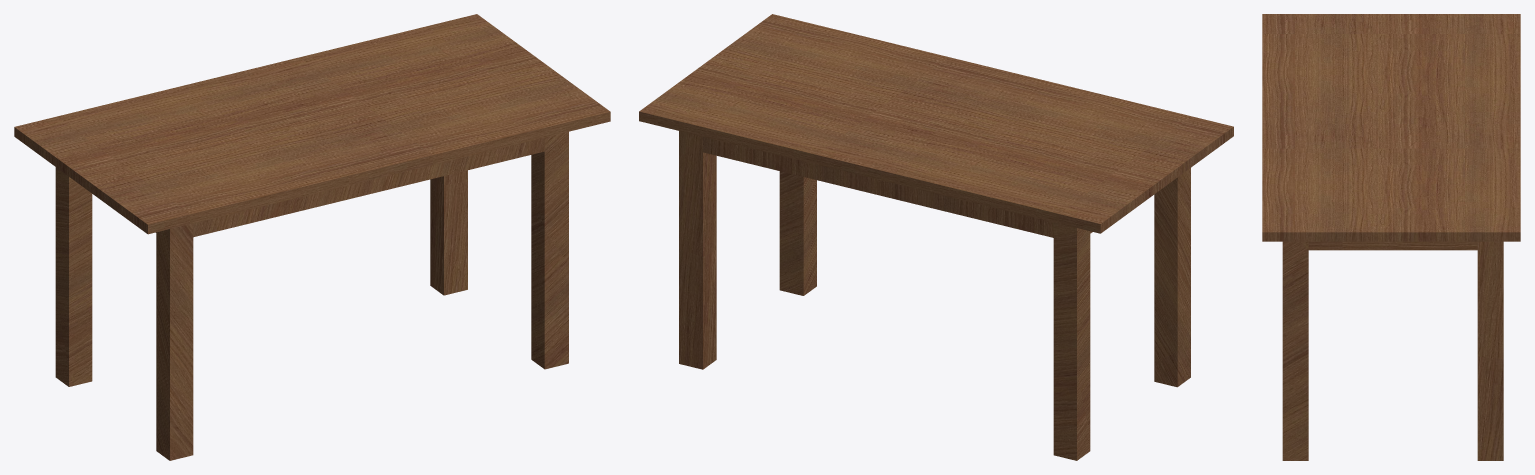
File: mesa_comum.FBX
The picture shows the model from 3 angles, left to right: view 1: azimuth 30°, elevation 25°; view 2: azimuth 150°, elevation 25°; view 3: azimuth 270°, elevation 25°; orthographic projection. The views are drawn at different scales.
Visible parts, largest first — view 1: Box001; view 2: Box001; view 3: Box001.
Part boxes in pixels (<box>): Box001: <box>14,14,610,460</box>; Box001: <box>639,14,1233,460</box>; Box001: <box>1262,14,1520,460</box>.
Size of the model in its own units: 197 by 102 by 98.43.
1 material, 1 textured.
